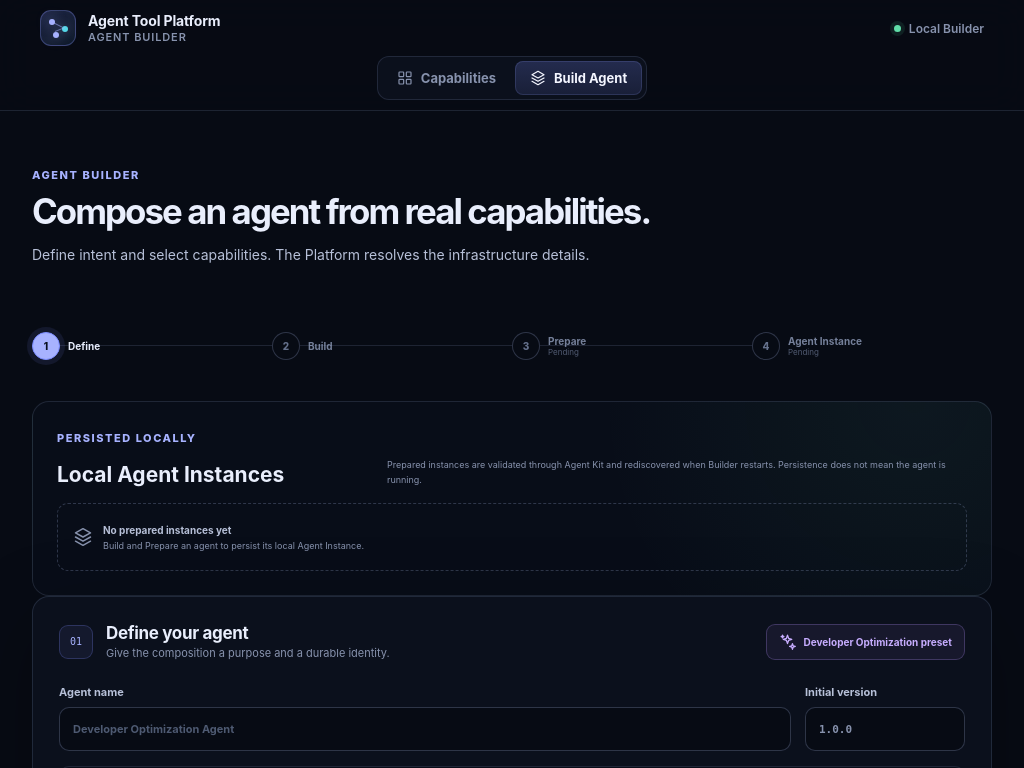
Test: Agent Builder UI › blocks Local only when Azure has no local-compatible Registry profile
Click the button "Developer Optimization preset" at (865, 642), box [766,624,965,660]
(page scrolled)
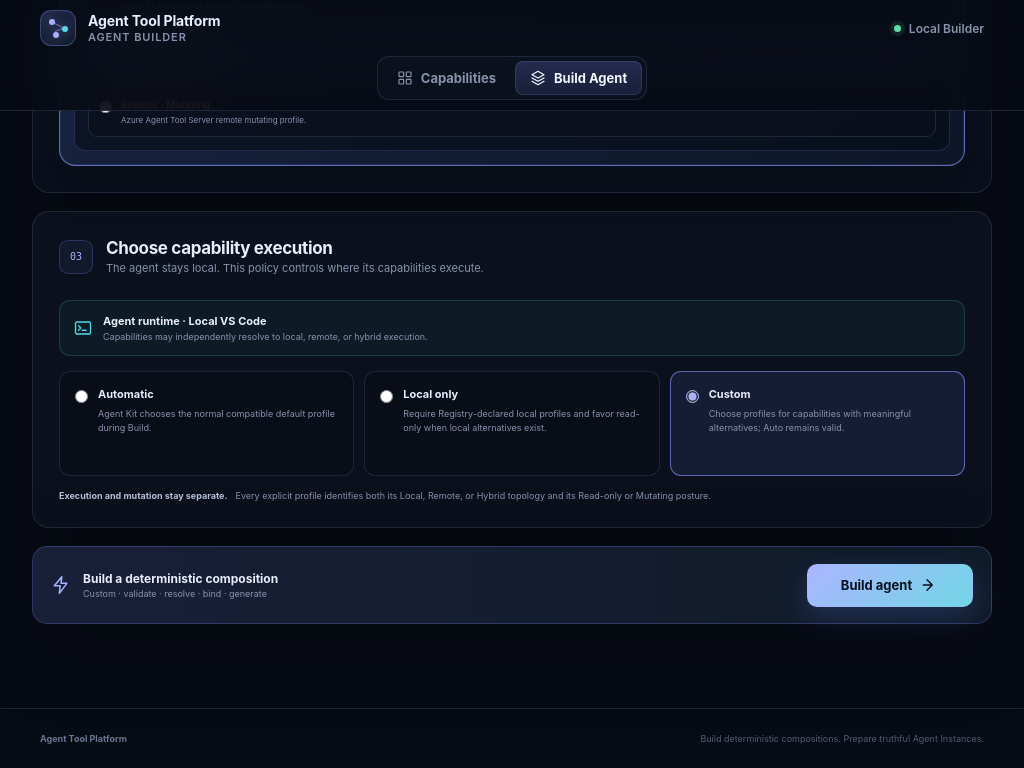
Click the radio button labelled "Local only" at (387, 396), box [380,390,393,403]
(page scrolled)
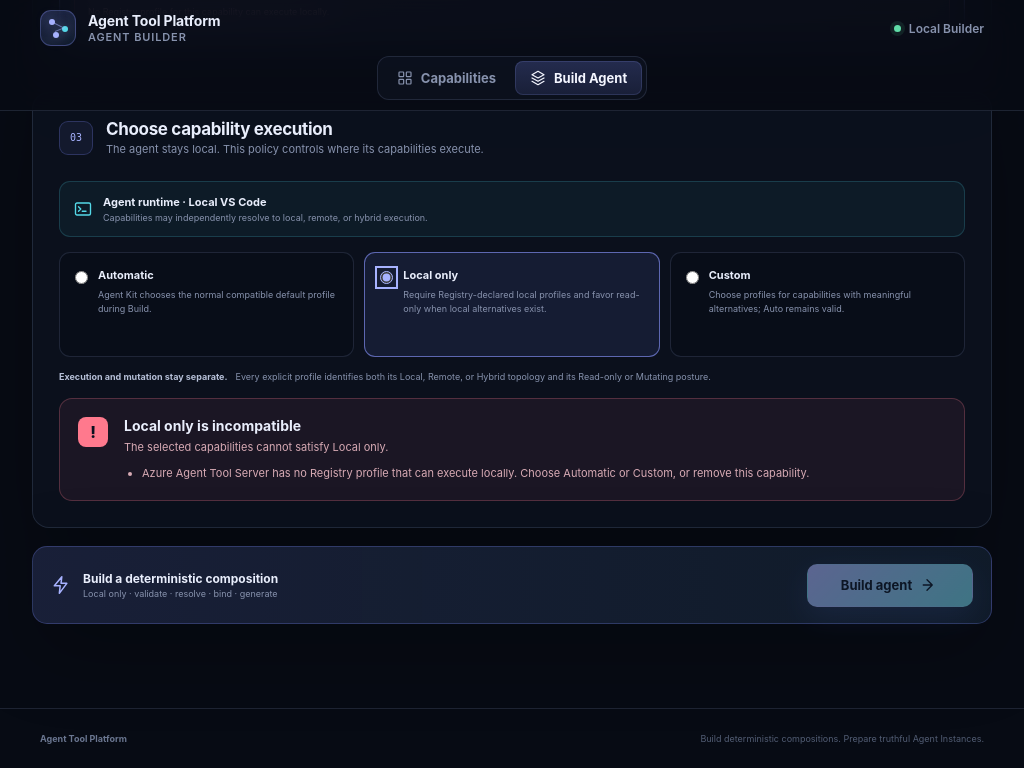
Result: the message shows "Local only is incompatible" at [124,417,301,434]
Result: the message shows "Azure Agent Tool Server" at [142,466,810,480]
Result: the message shows "no Registry profile that can execute locally" at [142,466,810,480]
